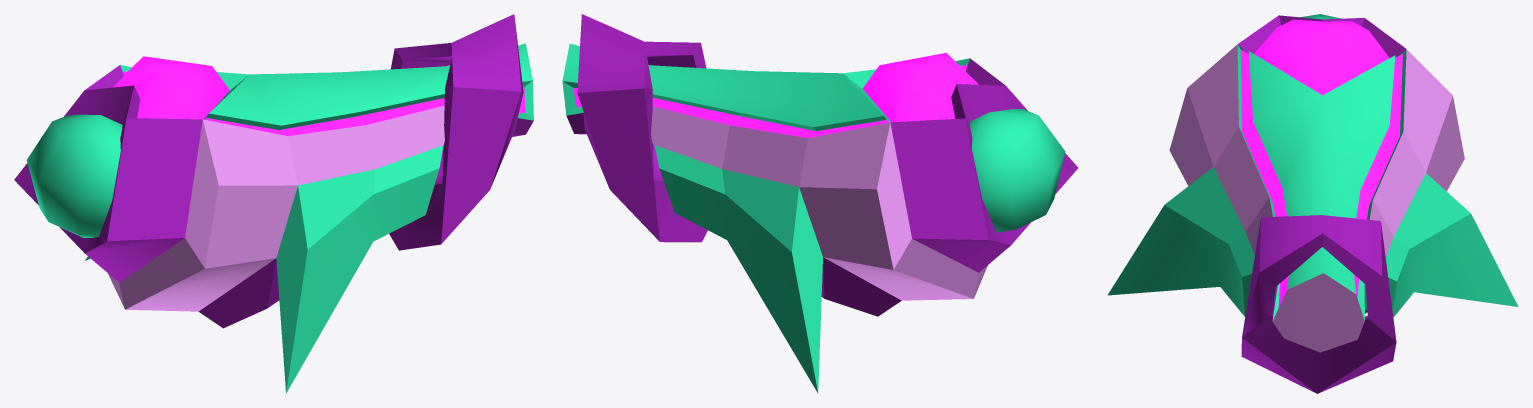
The model's file is heart_leg.glb.
The picture shows the model from 3 angles, left to right: view 1: azimuth 30°, elevation 25°; view 2: azimuth 150°, elevation 25°; view 3: azimuth 270°, elevation 25°; orthographic projection. The views are drawn at different scales.
Parts seen in each view (by area): view 1: Normal_HeartCalf; view 2: Normal_HeartCalf; view 3: Normal_HeartCalf.
Part boxes in pixels (box(x1,y1,x2,y2)): Normal_HeartCalf: box(14, 14, 533, 393); Normal_HeartCalf: box(562, 14, 1077, 393); Normal_HeartCalf: box(1107, 14, 1518, 393).
Bounding box in the file's own units: 0.5336 × 0.282 × 0.3764.
